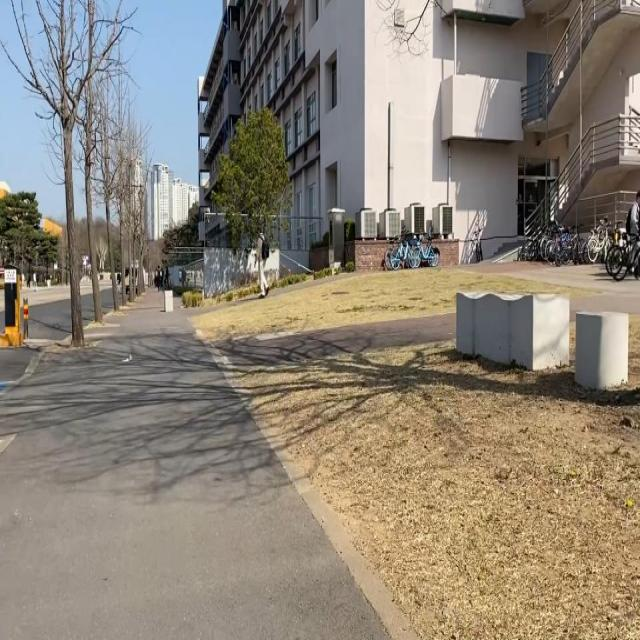sidewalk: (0, 288, 421, 640)
